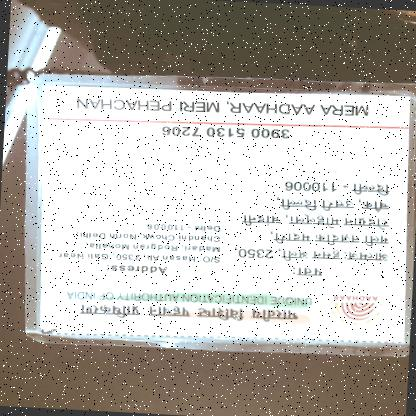aadhaar_card: (25, 78, 415, 360)
